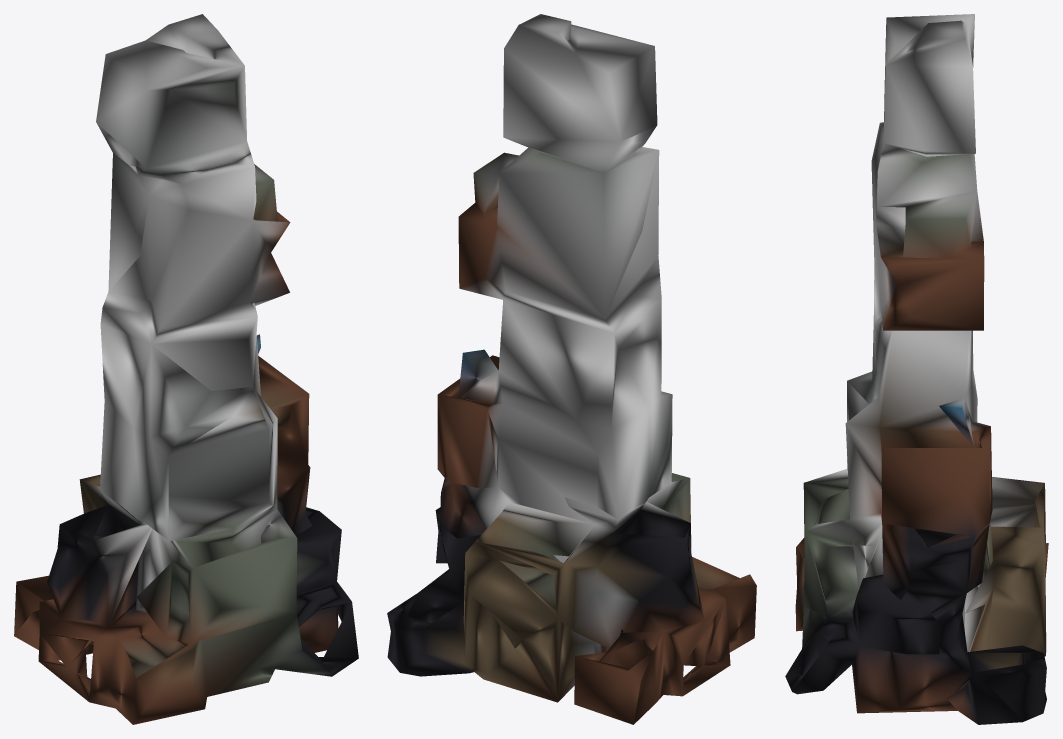
Rendered from gen3d-junk-tower-lod1.glb.
3 views of the same model, side by side, from view 1: azimuth 30°, elevation 25°; view 2: azimuth 150°, elevation 25°; view 3: azimuth 270°, elevation 25° (orthographic). The views are drawn at different scales.
Visible parts, largest first — view 1: part_0; view 2: part_0; view 3: part_0.
Boxes of the visible parts, x1,y1,x2,y2 form: part_0: (14,14,358,724); part_0: (387,14,756,724); part_0: (785,14,1048,724).
Bounding box in the file's own units: 0.4429 × 0.997 × 0.3726.
